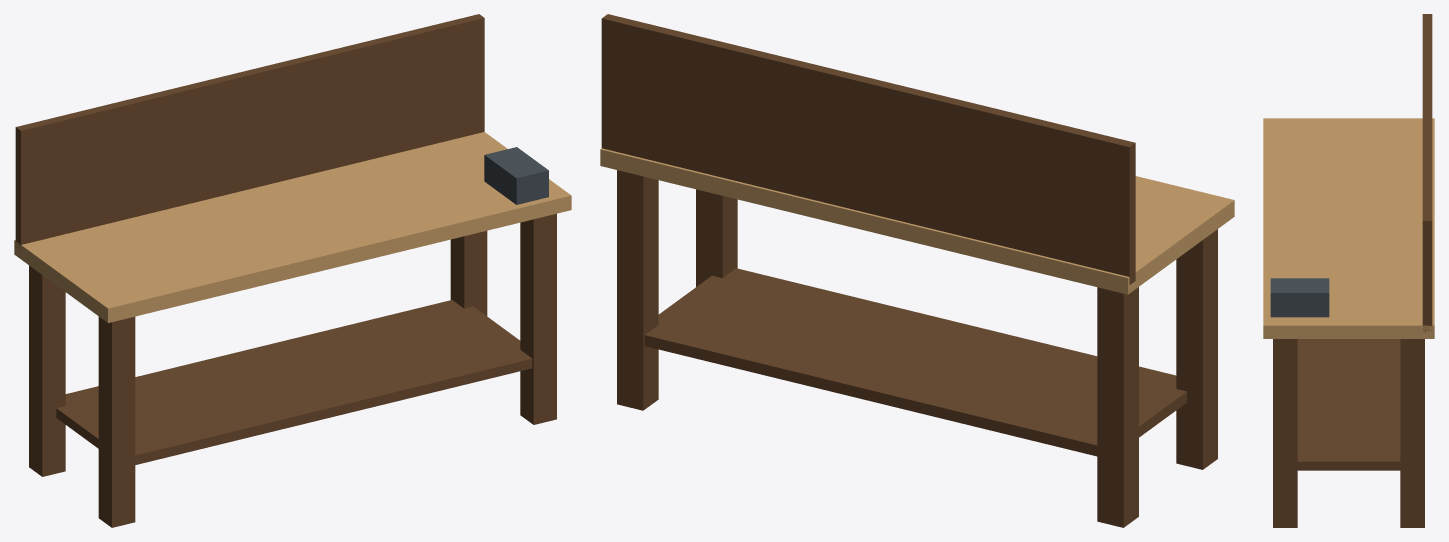
Rendered from GH_Workbench_01.glb.
3 renders of one model, left to right at view 1: azimuth 30°, elevation 25°; view 2: azimuth 150°, elevation 25°; view 3: azimuth 270°, elevation 25°, orthographic. The views are drawn at different scales.
Parts seen in each view (by area): view 1: GH_Workbench_01; view 2: GH_Workbench_01; view 3: GH_Workbench_01.
Boxes of the visible parts, x1,y1,x2,y2 form: GH_Workbench_01: (14,14,571,527); GH_Workbench_01: (600,14,1234,527); GH_Workbench_01: (1263,14,1434,527).
Size of the model in its own units: 2 by 1.4 by 0.7.
Materials: 1 (1 with a texture image).
